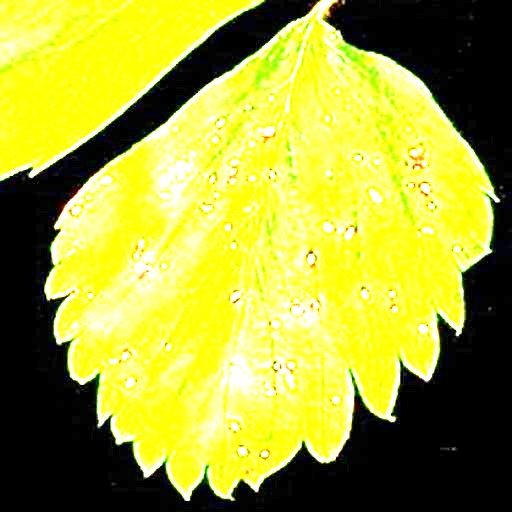Leaf Spot: (43, 14, 500, 502)
